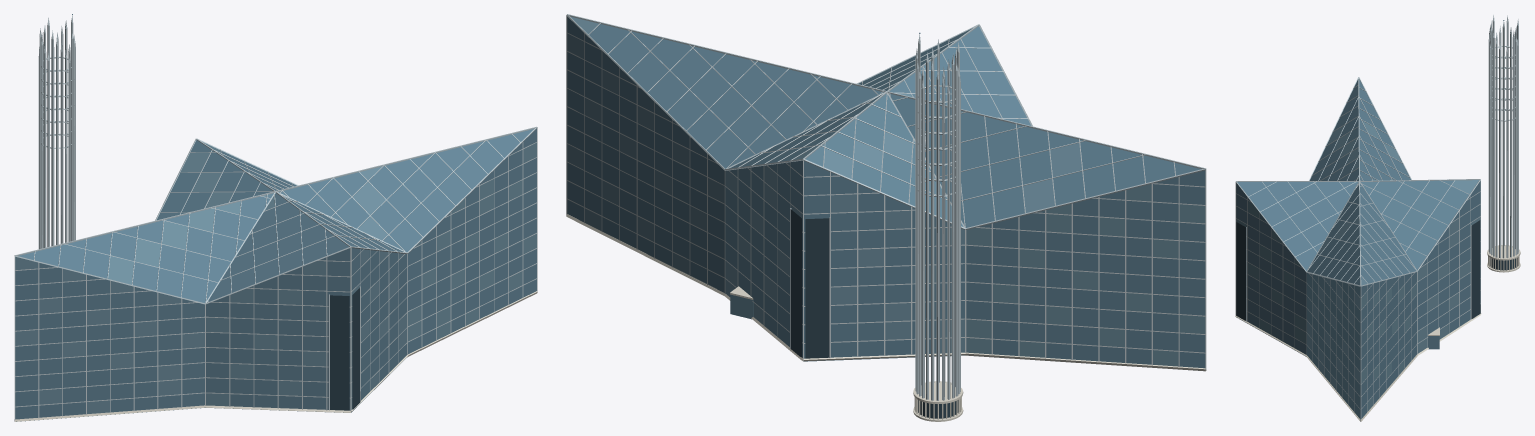
File: christ-cathedral-far.glb
3 views of the same model, side by side, from view 1: azimuth 30°, elevation 25°; view 2: azimuth 150°, elevation 25°; view 3: azimuth 270°, elevation 25° (orthographic). The views are drawn at different scales.
Visible parts, largest first — view 1: christ-cathedral-0-glass, christ-cathedral-0-glassPale, christ-cathedral-0-lattice, christ-cathedral-0-steel, christ-cathedral-0-shadow, christ-cathedral-0-glow, christ-cathedral-0-stone; view 2: christ-cathedral-0-glass, christ-cathedral-0-glassPale, christ-cathedral-0-lattice, christ-cathedral-0-steel, christ-cathedral-0-shadow, christ-cathedral-0-stone, christ-cathedral-0-glow; view 3: christ-cathedral-0-glass, christ-cathedral-0-lattice, christ-cathedral-0-steel, christ-cathedral-0-glassPale, christ-cathedral-0-shadow, christ-cathedral-0-stone, christ-cathedral-0-glow.
Boxes of the visible parts, box(x1,y1,x2,y2) form: christ-cathedral-0-glass: box(15, 129, 536, 421); christ-cathedral-0-glassPale: box(15, 142, 536, 416); christ-cathedral-0-lattice: box(14, 128, 537, 420); christ-cathedral-0-steel: box(14, 15, 537, 410); christ-cathedral-0-shadow: box(330, 288, 360, 410); christ-cathedral-0-glow: box(15, 14, 522, 384); christ-cathedral-0-stone: box(14, 291, 537, 421); christ-cathedral-0-glass: box(567, 17, 1205, 370); christ-cathedral-0-glassPale: box(567, 16, 1205, 368); christ-cathedral-0-lattice: box(566, 15, 1206, 370); christ-cathedral-0-steel: box(566, 14, 1206, 400); christ-cathedral-0-shadow: box(791, 209, 958, 418); christ-cathedral-0-stone: box(566, 214, 1206, 421); christ-cathedral-0-glow: box(584, 32, 1178, 323); christ-cathedral-0-glass: box(1236, 79, 1480, 419); christ-cathedral-0-lattice: box(1235, 85, 1480, 420); christ-cathedral-0-steel: box(1235, 15, 1518, 321); christ-cathedral-0-glassPale: box(1236, 120, 1480, 411); christ-cathedral-0-shadow: box(1236, 220, 1517, 320); christ-cathedral-0-stone: box(1235, 245, 1520, 421); christ-cathedral-0-glow: box(1248, 20, 1504, 351).
Bounding box in the file's own units: 128 × 71.94 × 73.98.
